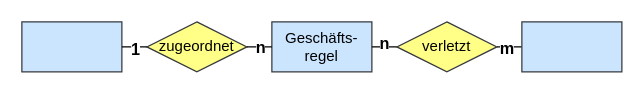
Some shapes in this 644 by 94 pixel diagram are drawn without their labels. Each missing label, with the centre of its shape:
Tabellenfeld: the point at 71,46
Tabellenzeile: the point at 571,46
